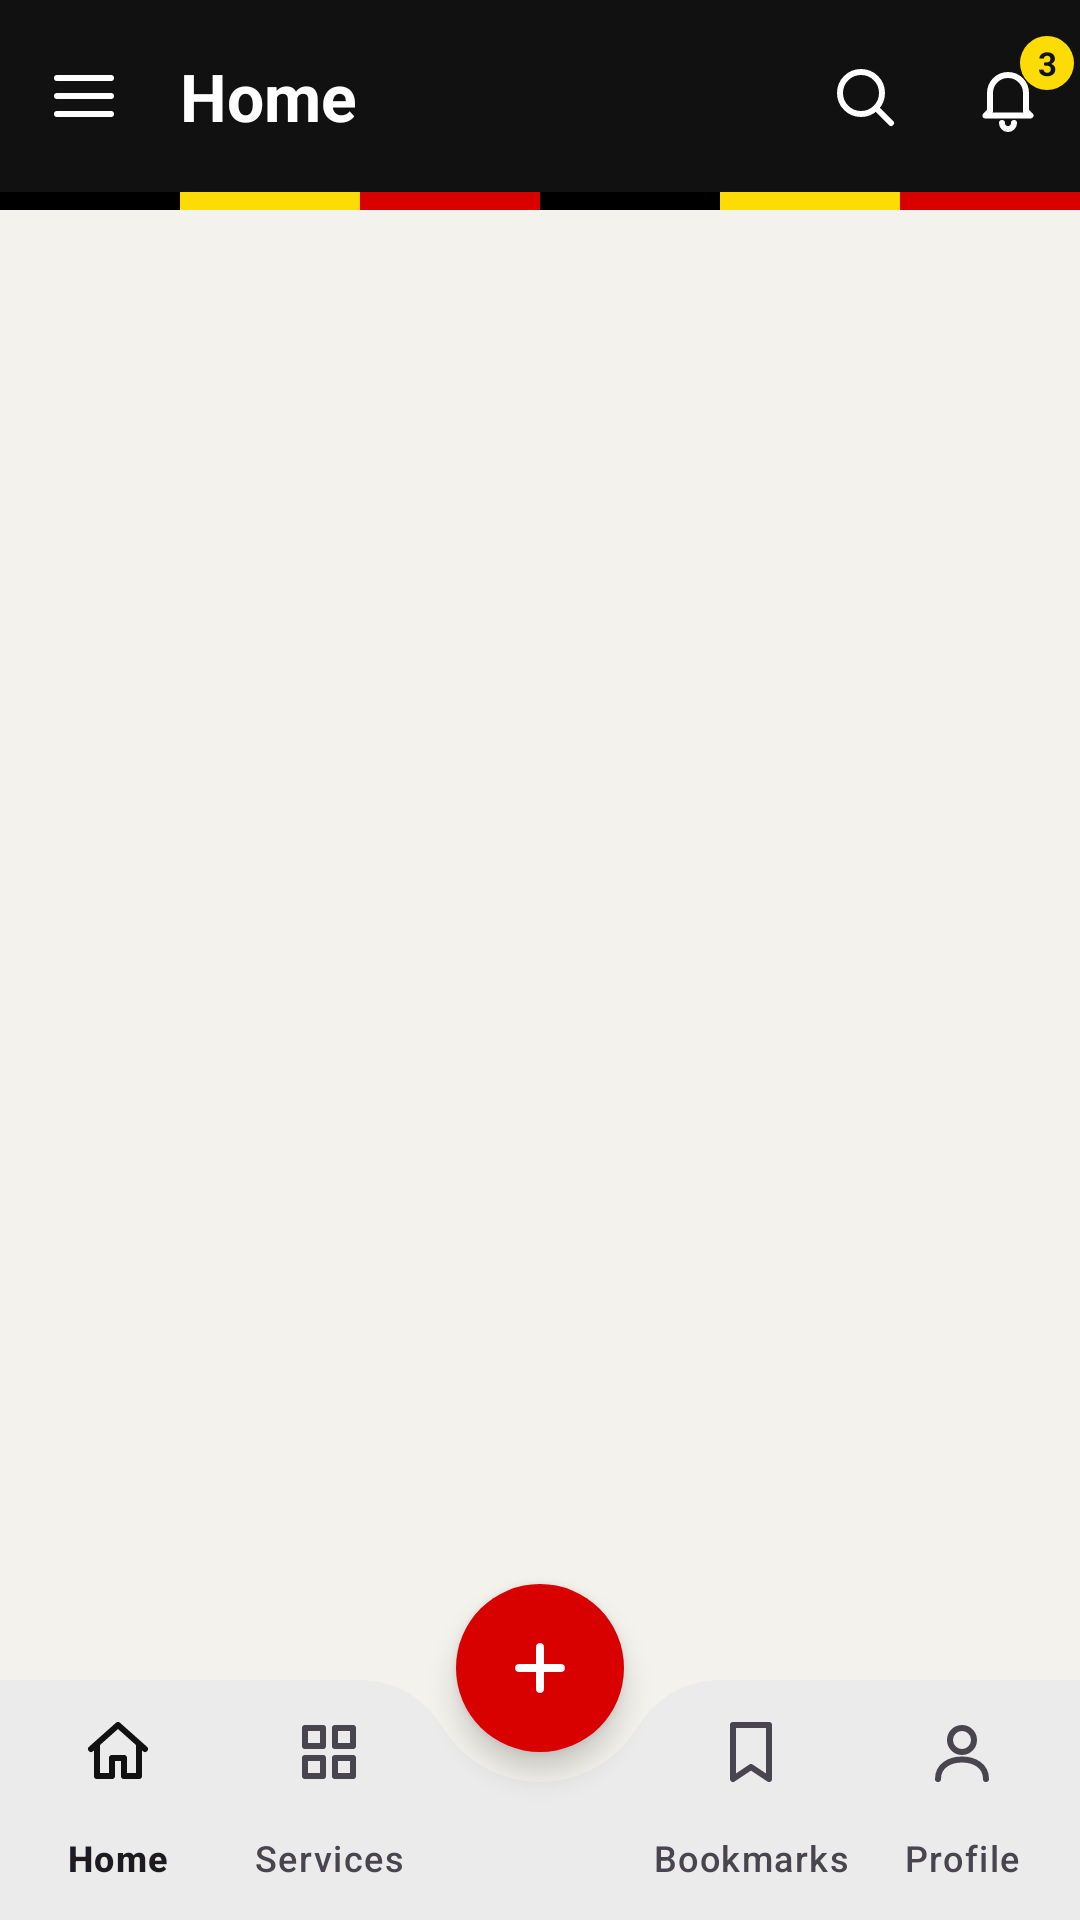

Screen size 1080*1920. Icon name, then its center in pixels as [x,y]:
Start new application: [540,1680]
